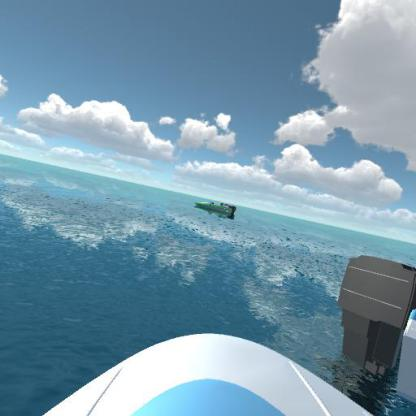usv0: (188, 189, 241, 225)
usv1: (333, 243, 415, 406)
